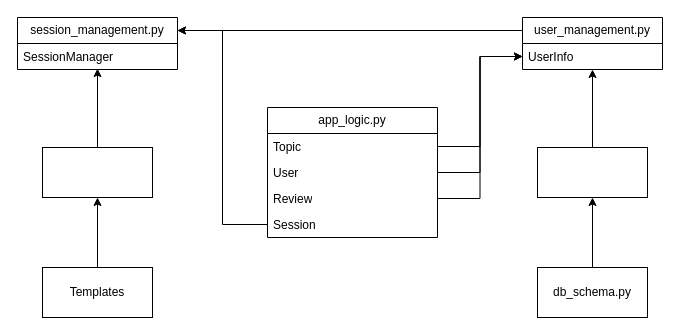
This 680x335 diagram has some shape labels left out. The centre of each missing label's shape, as x and y in pixels:
data_store.py: point (592, 172)
server_app.py: point (97, 172)
